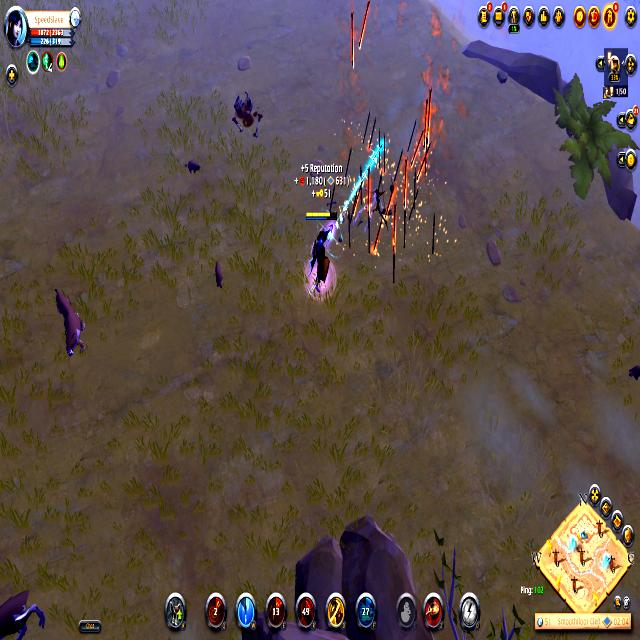ore: (50, 279, 94, 370), (0, 569, 47, 640)
red: (302, 204, 339, 306)
